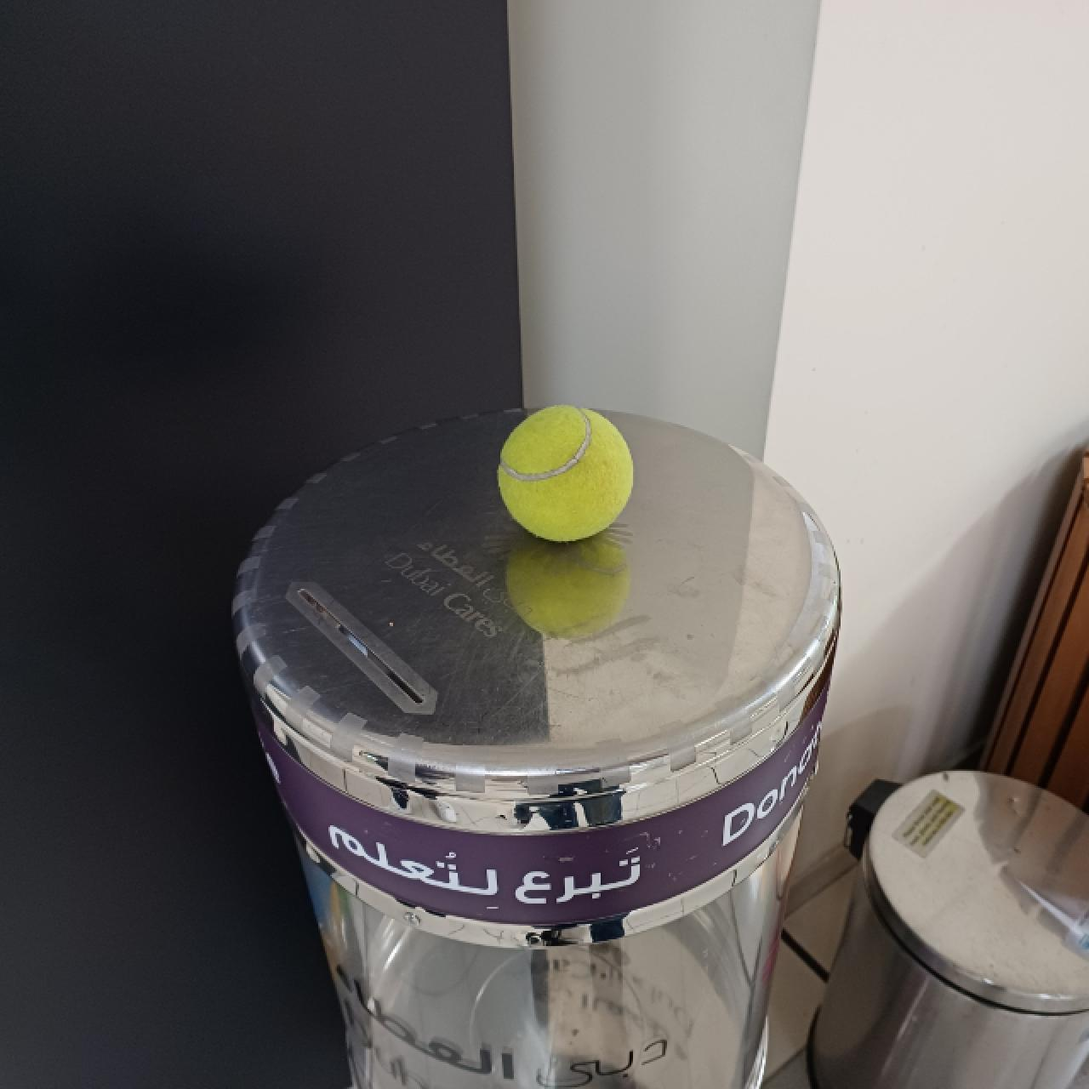tennis-ball: (496, 405, 637, 545)
